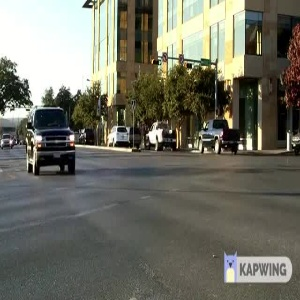suv: (16, 103, 84, 181), (101, 124, 133, 148)
truck: (193, 116, 246, 157), (143, 116, 178, 154)
